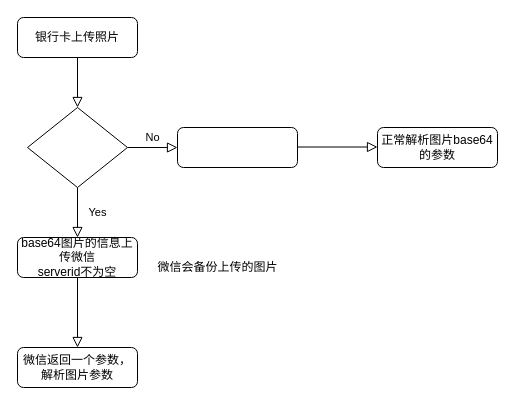
The diagram is 515 pixels wide and 405 high, and some of its shapes have lost their labels. The centre of each missing label's shape, as x and y in pixels:
h5/app场景 serverid为空: the point at 237,147
是否微信/小程序: the point at 77,147
